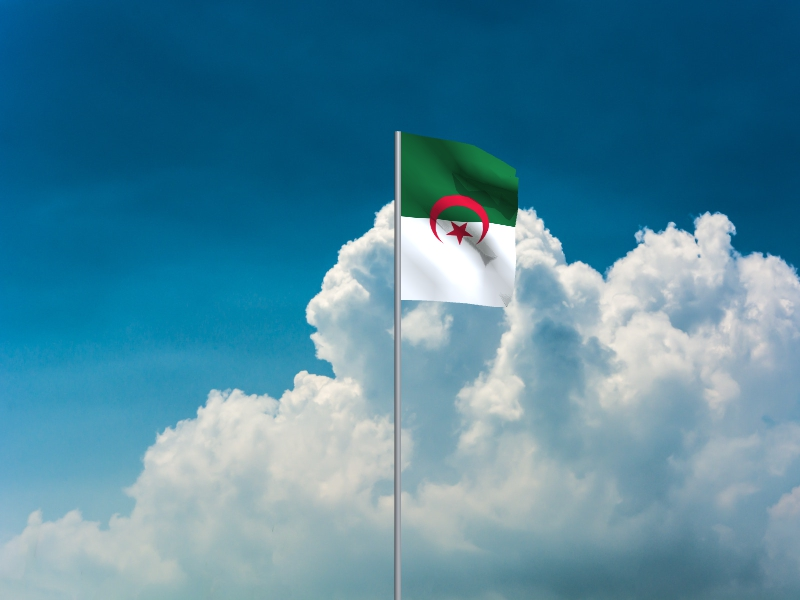dz: (402, 133, 520, 309)
